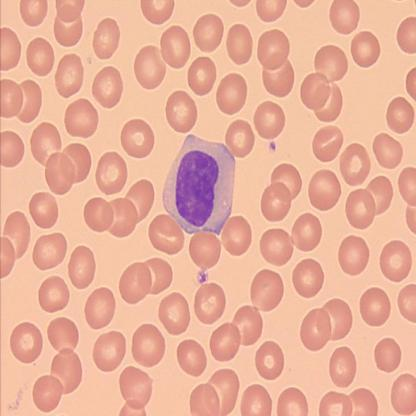Atypical lymphocyte: (160, 129, 238, 243)
